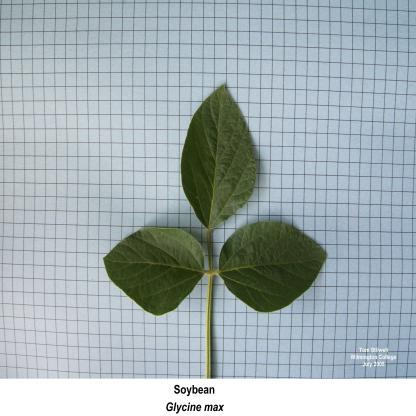Soyabean leaf: (179, 77, 259, 228), (218, 222, 328, 312), (102, 226, 207, 318)
